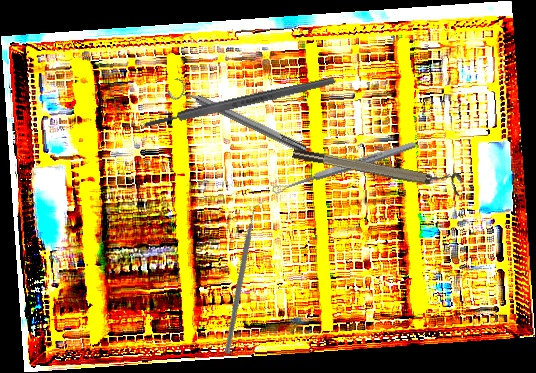Chopper: (178, 198, 314, 356)
Fixation Ring: (165, 75, 311, 162), (291, 138, 464, 197)
Scalpel Handle: (142, 74, 337, 131)
Surgical Spoon: (270, 139, 418, 196)
